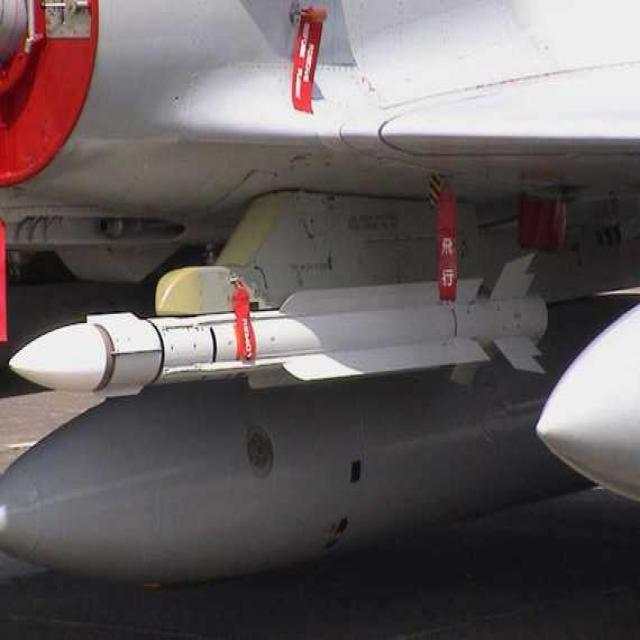missile: (8, 259, 548, 389)
